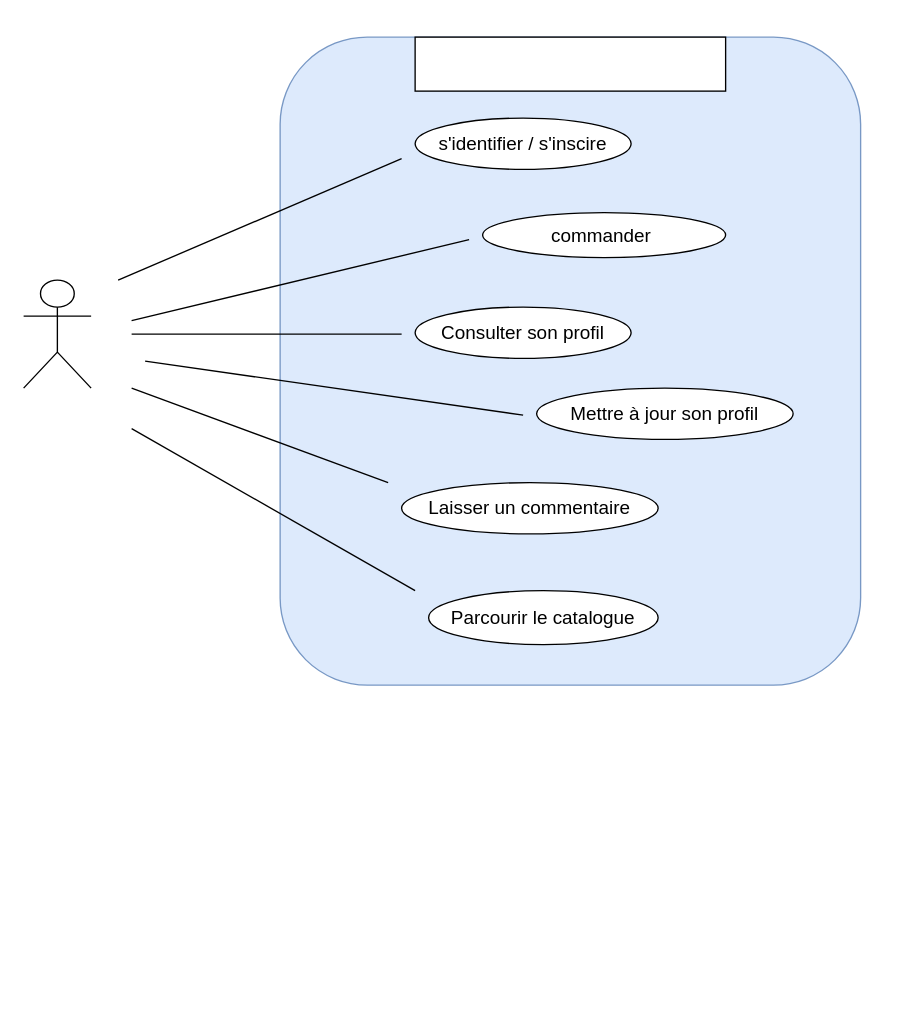
Image size: 911x1031. Some labels were removed from this diagram. Here are the shapes that lost their labels. From the top down, the box of each, then its label:
(414, 36, 726, 91): Webapp "Wild Adventures"
(22, 279, 91, 388): Client
